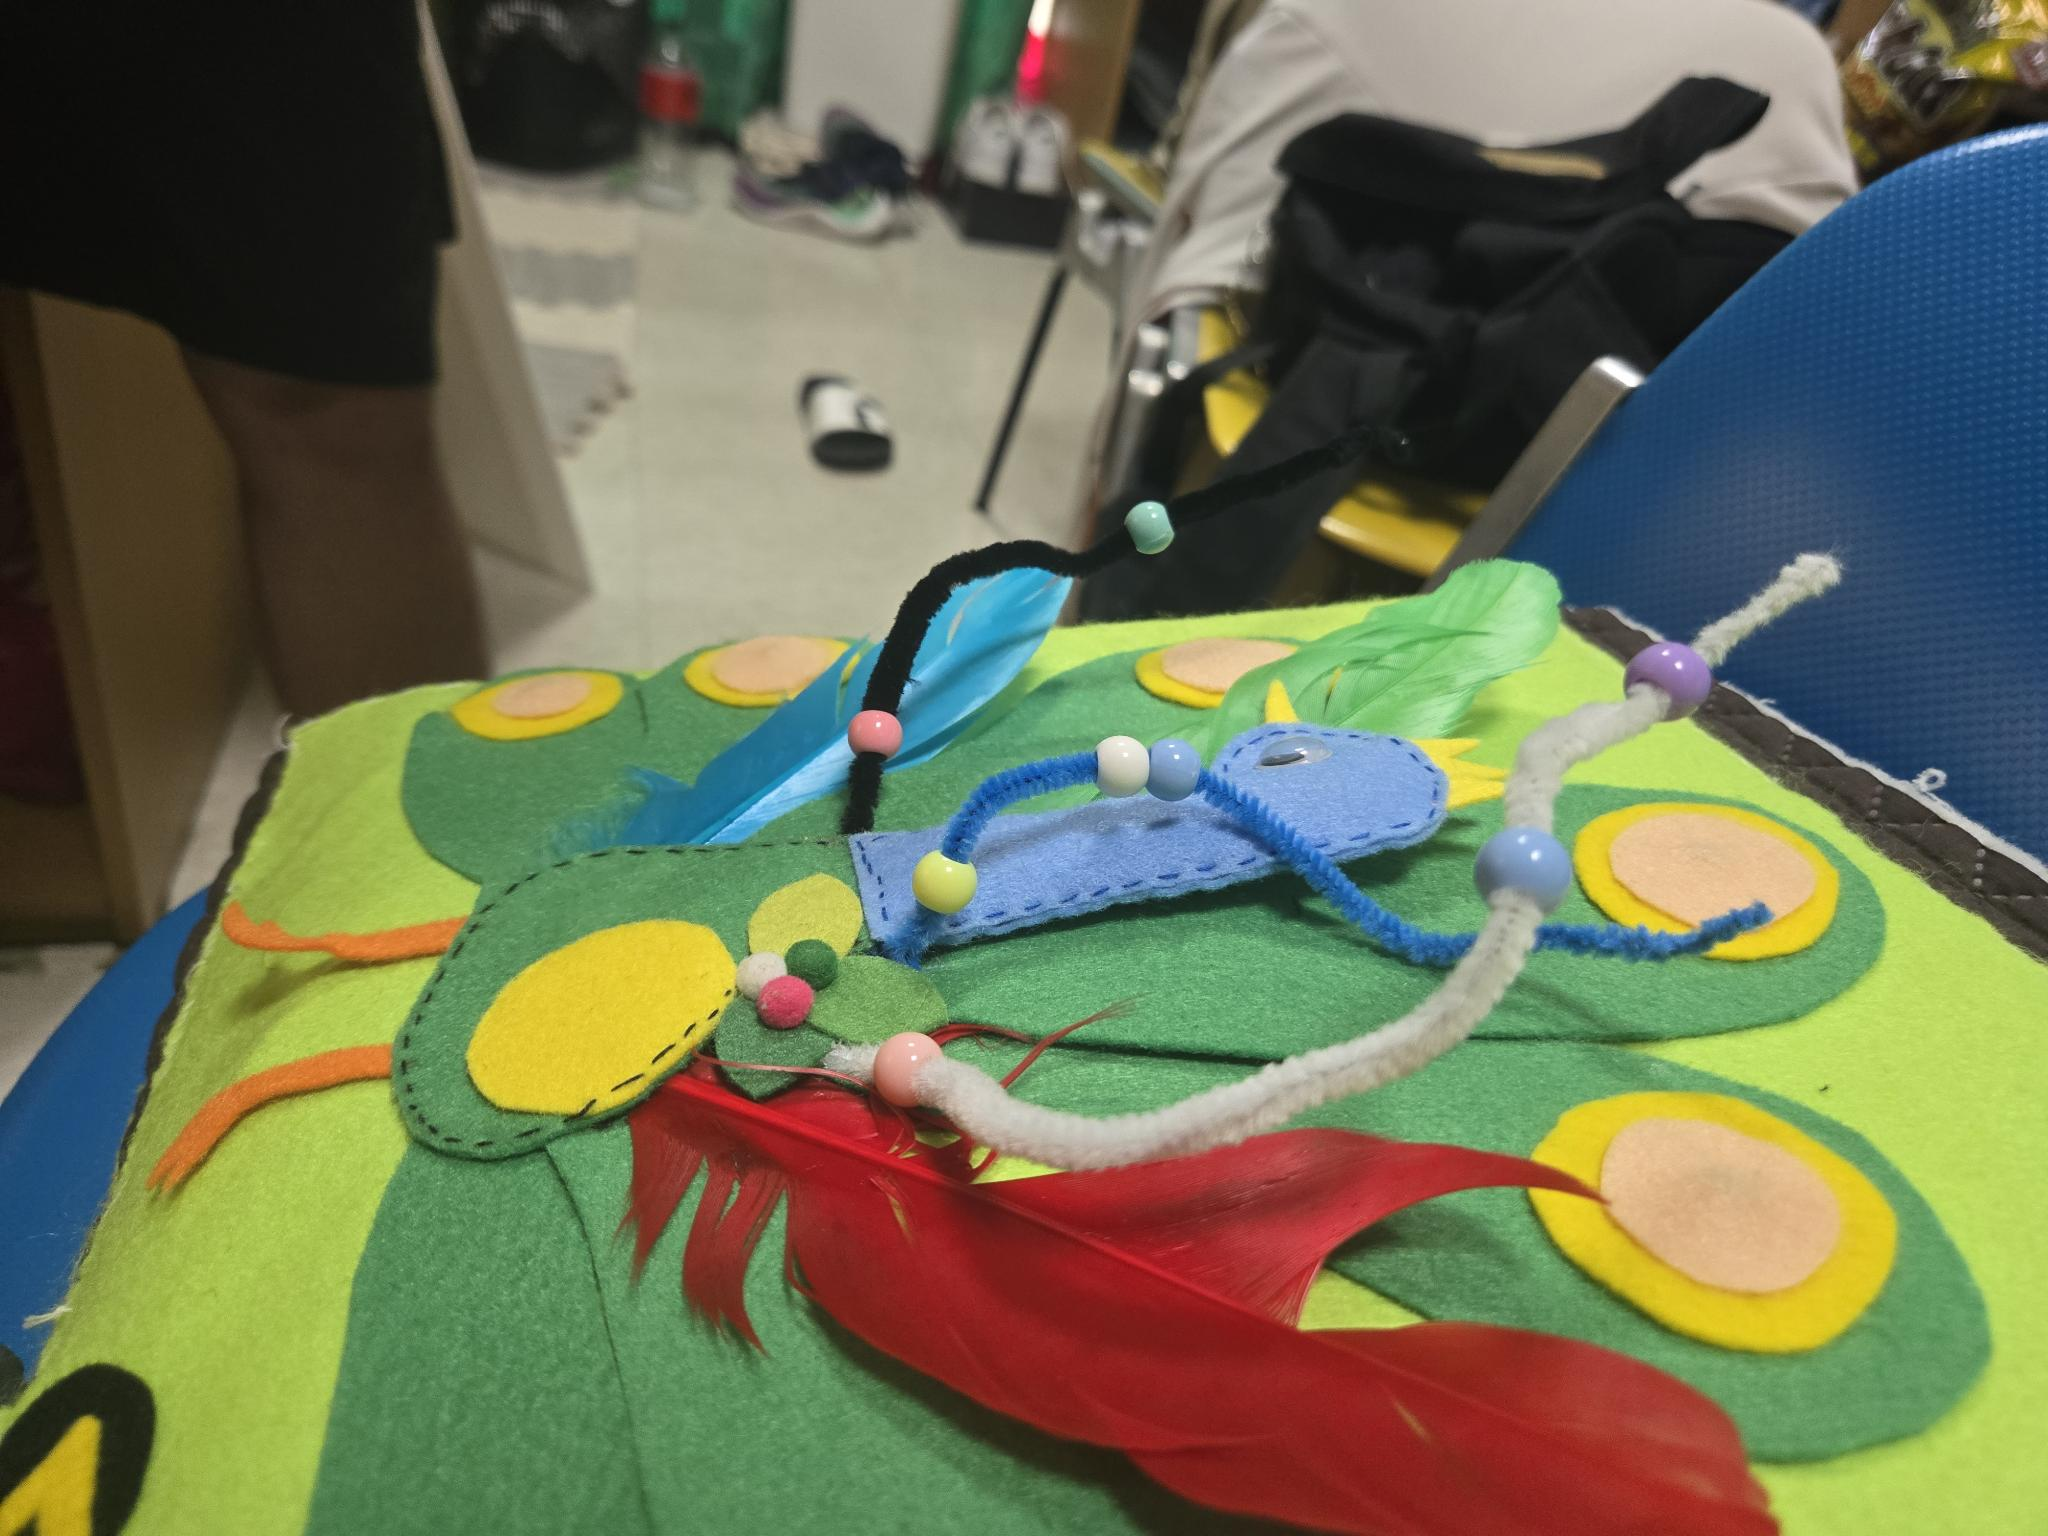bead: (1464, 800, 1587, 913), (1624, 631, 1732, 726), (913, 824, 1001, 923), (866, 1015, 948, 1112), (835, 692, 918, 779), (1137, 737, 1219, 805), (1116, 482, 1184, 561), (1085, 723, 1145, 800)
